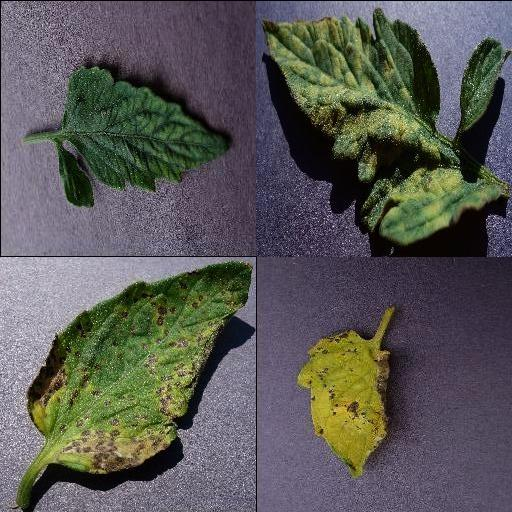Leaf Mold: (261, 8, 512, 244)
Mosaic Virus: (55, 62, 232, 208)
Septoria: (27, 260, 253, 476), (293, 329, 393, 479)
